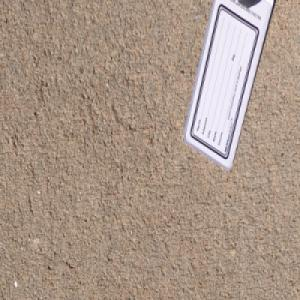LuggageTag: (182, 0, 275, 171)
